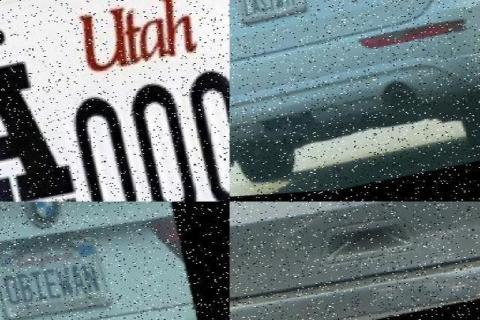LicensePlate: (47, 46, 229, 202), (0, 230, 126, 320), (283, 202, 428, 250), (229, 0, 312, 28)
